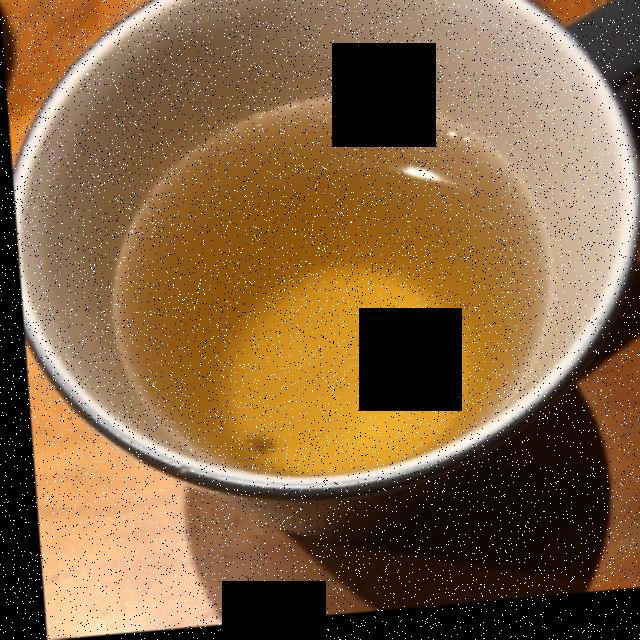tea: (117, 106, 532, 475)
